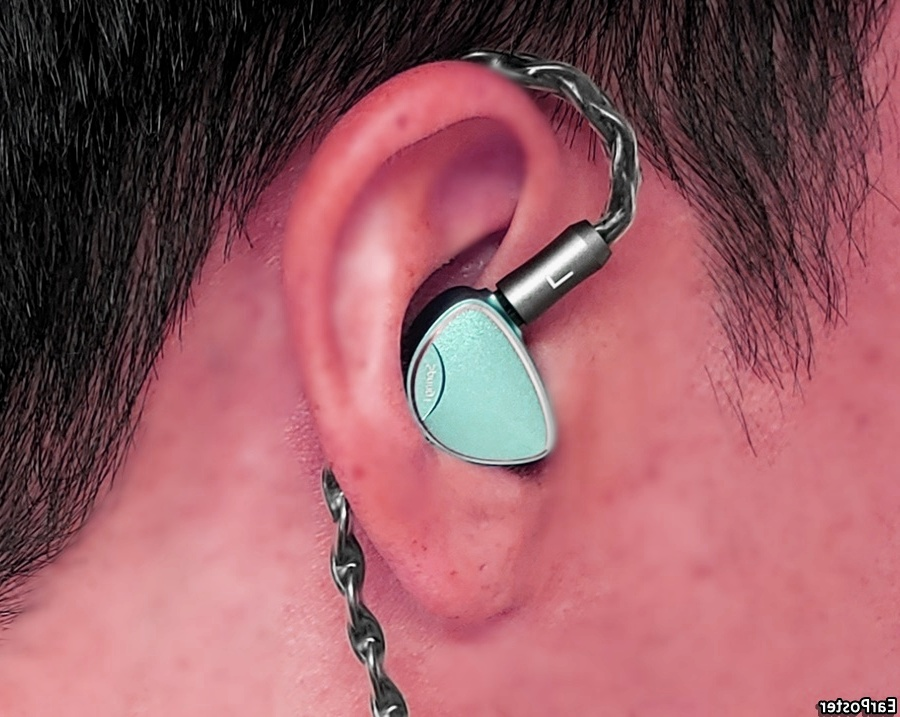earphone: (284, 60, 557, 625)
